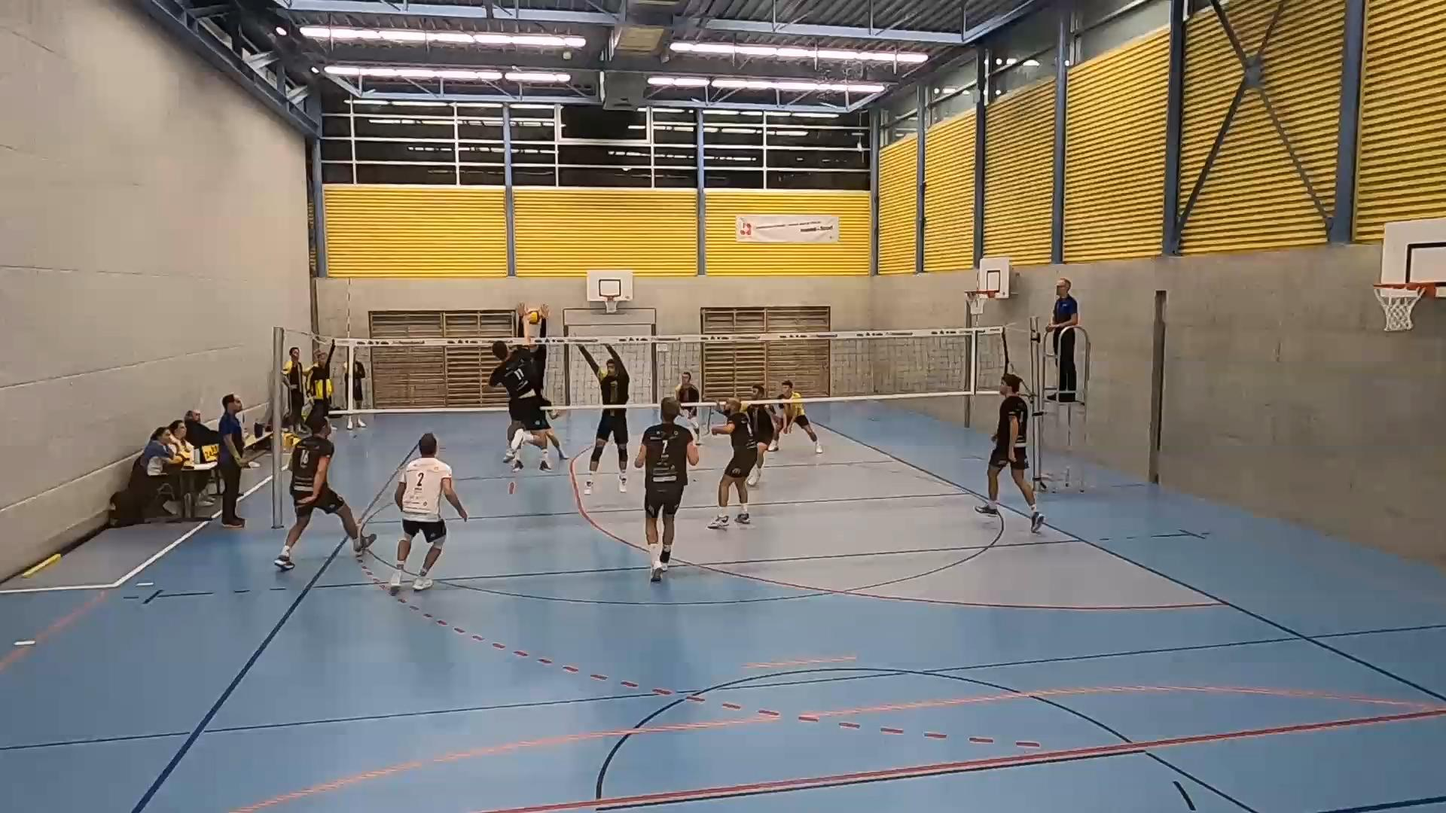Attack: (489, 322, 579, 472)
Block: (567, 325, 636, 497), (511, 300, 553, 400)
Player: (274, 414, 375, 570), (389, 433, 468, 594), (635, 397, 698, 581), (976, 373, 1044, 531), (708, 398, 757, 528), (745, 385, 778, 486), (779, 381, 822, 453), (674, 371, 703, 443)
ball: (528, 310, 548, 323)
